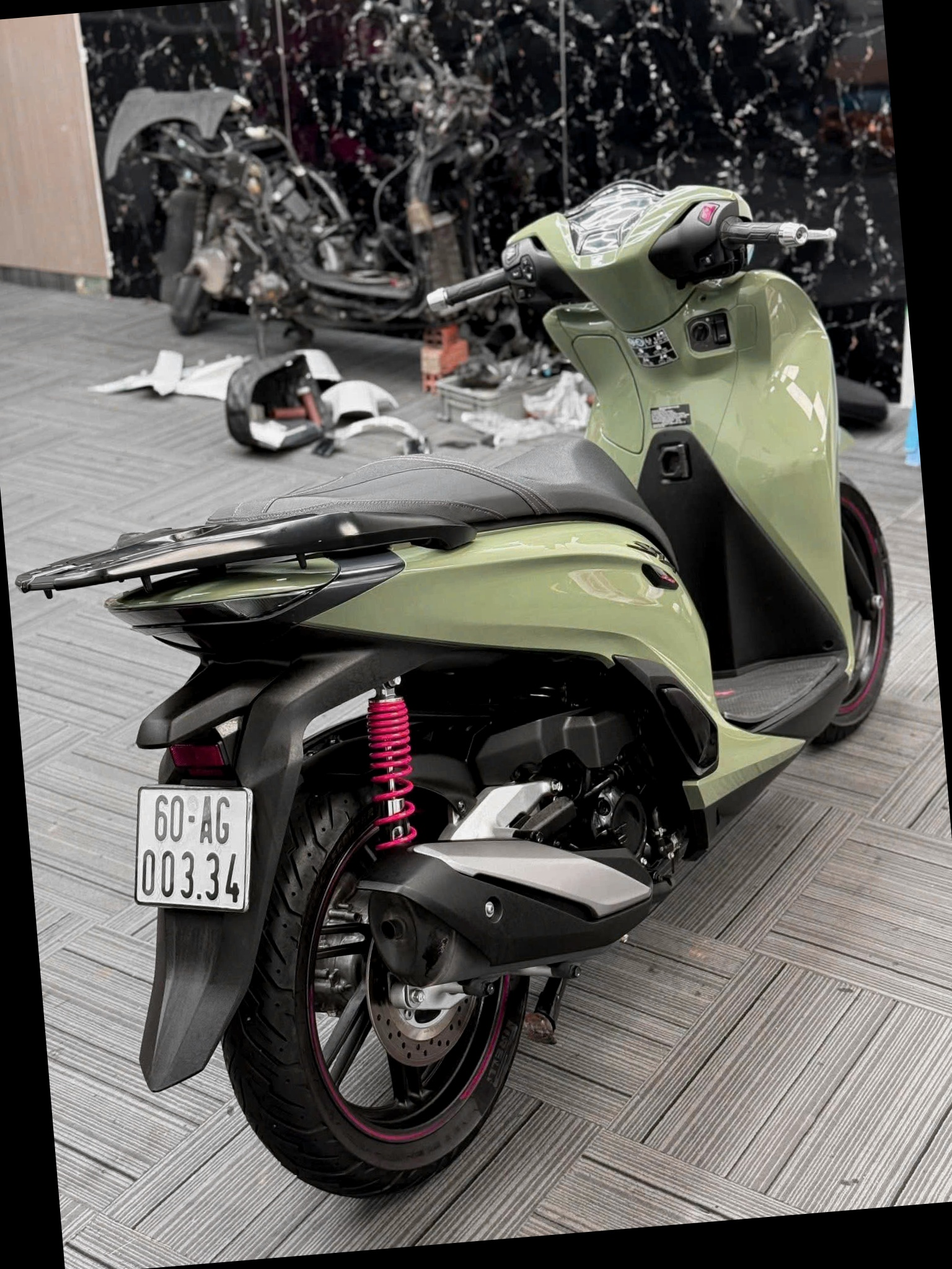Bien-so: (67, 776, 199, 920)
